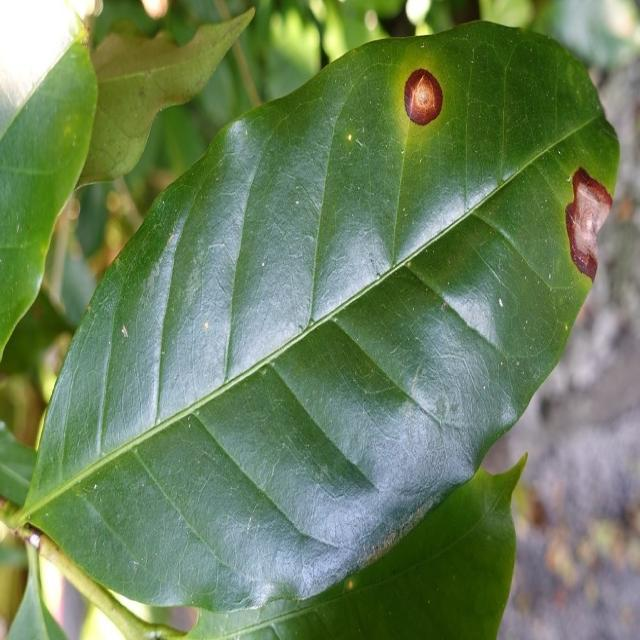Enfermedad-Mancha-de-hierro: (8, 21, 622, 628)
